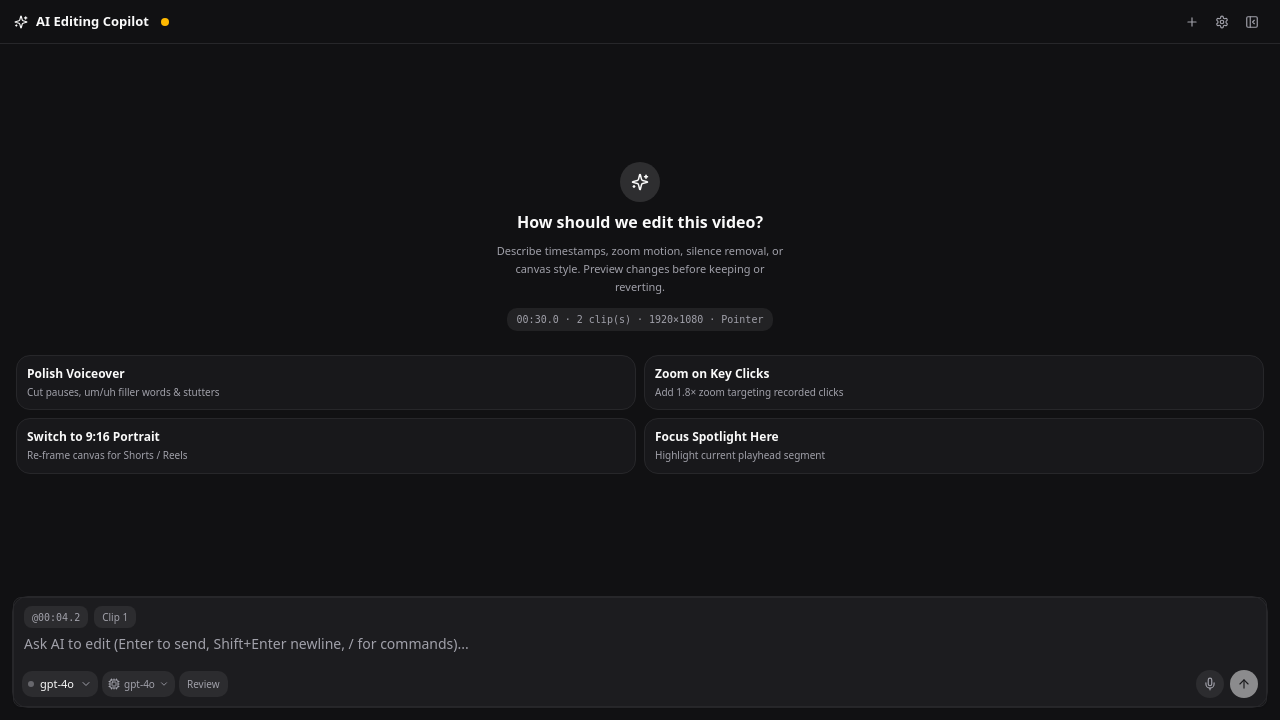
it: FrameTrail AI Copilot UI › triggers speech polish from empty-state card and expands/collapses >10 timeline cuts
Later steps or results of the test are not shown.
Click the text "Polish Voiceover" at (76, 374), box [27,366,125,382]
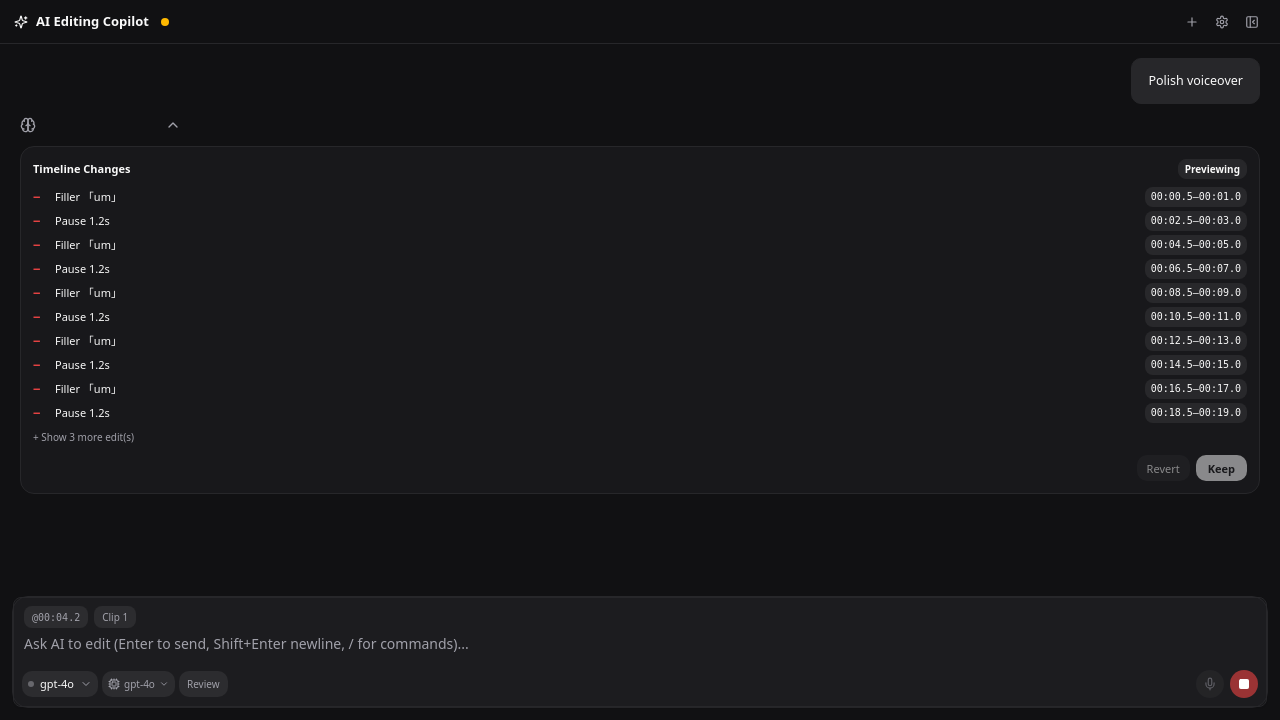
Expected: the text "00:24.5–00:25.0" is not shown
Now the button with test id "timeline-changes-toggle-more" reads "+ Show 3 more edit(s)"
Click the button with test id "timeline-changes-toggle-more" at (84, 437), box [33,429,134,446]
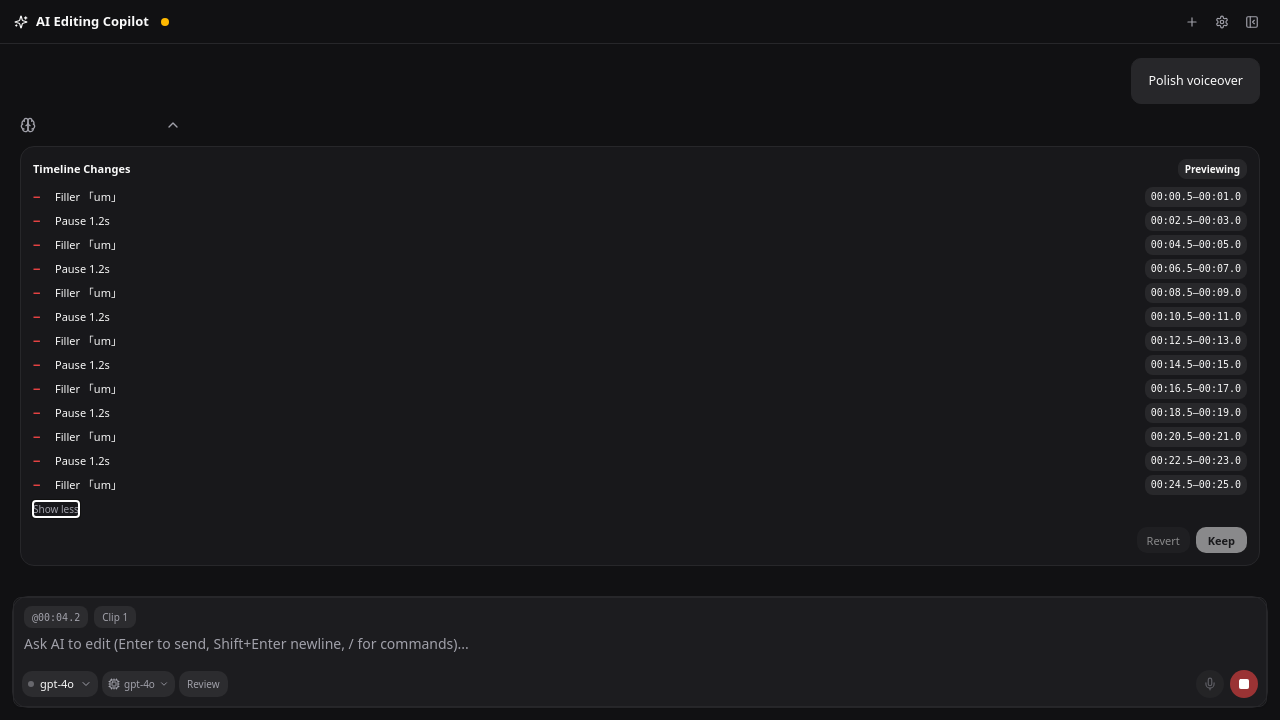
Now the button with test id "timeline-changes-toggle-more" reads "Show less", box [33,501,79,518]
Now the button "00:24.5–00:25.0" is shown, box [1145,475,1247,495]
